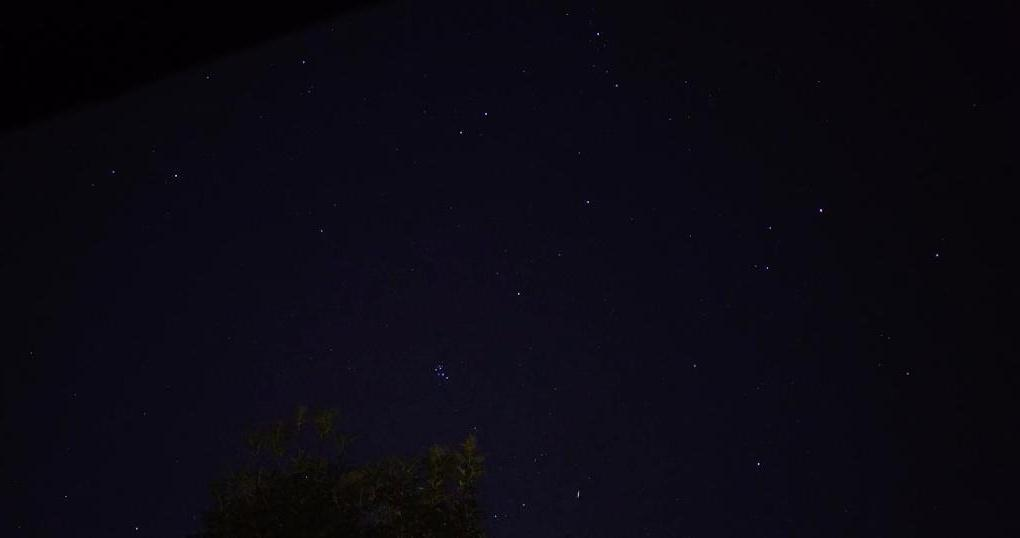meteorite: (570, 484, 586, 506)
